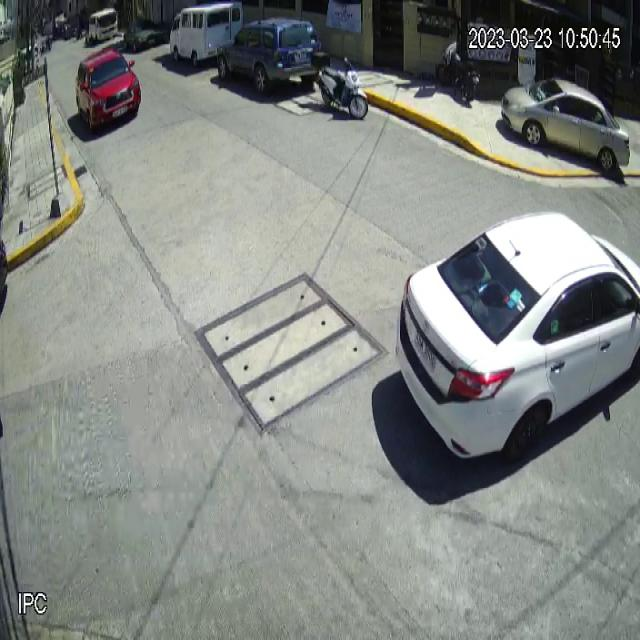Car: (394, 208, 640, 466), (500, 76, 630, 173), (215, 15, 322, 93), (75, 47, 142, 133)
Motorcycle: (311, 51, 368, 120)
Van: (170, 0, 244, 67)
